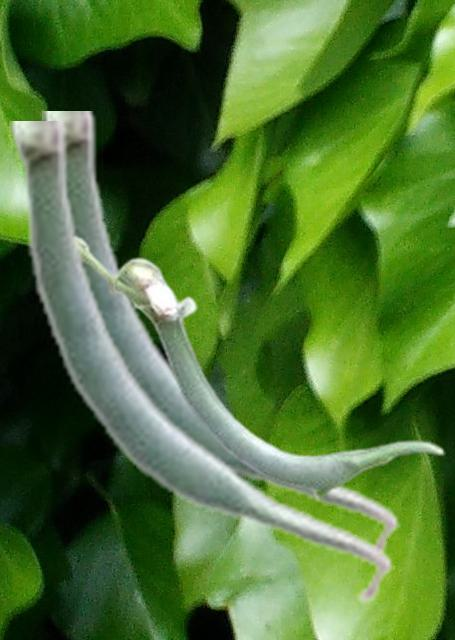french_bean: (9, 121, 393, 606), (42, 111, 399, 555), (77, 234, 444, 501)
